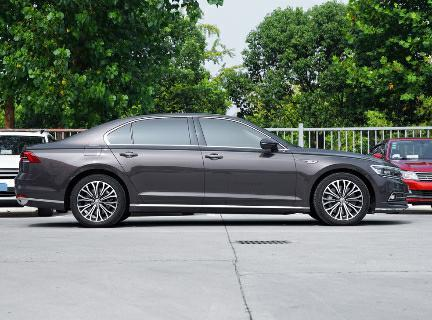大众-辉昂: (12, 106, 412, 230)
